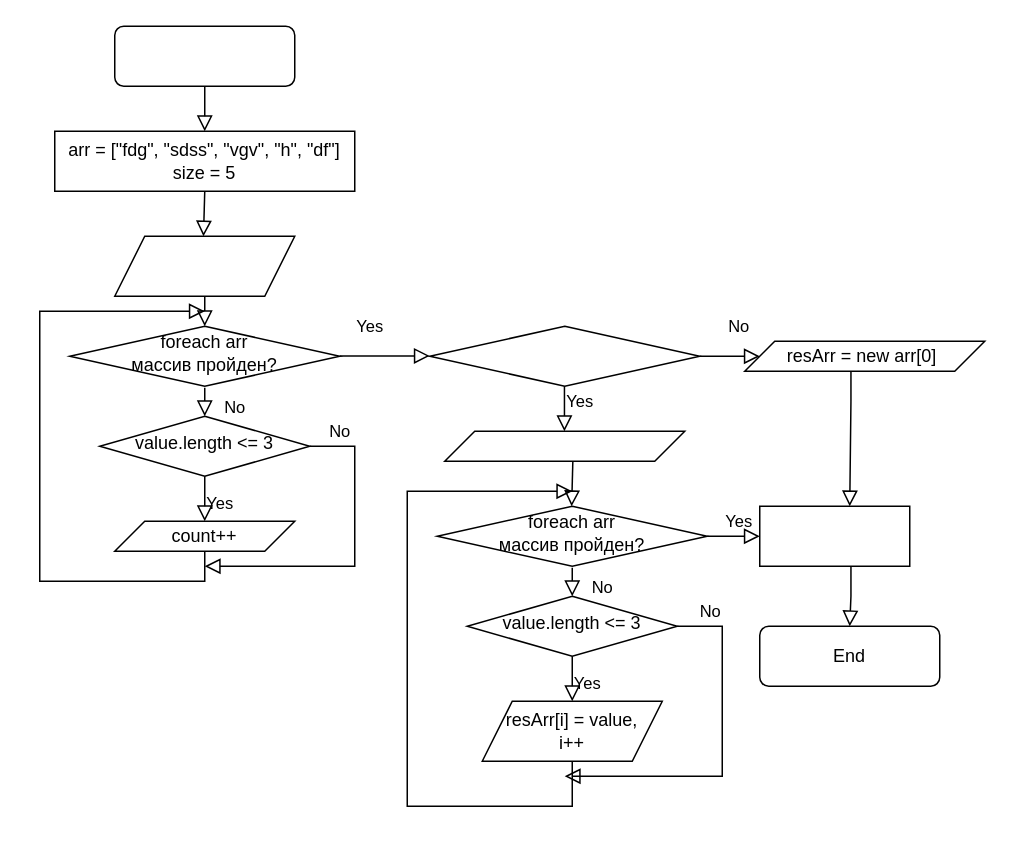
The diagram is 1011 pixels wide and 848 high, and some of its shapes have lost their labels. The shapes that lost their labels are listed below. From the top down, each one's centre as x and y in pixels, then its label:
the point at 204,55: Start
the point at 204,265: count = 0, i = 0
the point at 564,355: count > 0
the point at 564,445: resArr = new arr[count]
the point at 834,535: print resArr
